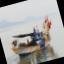fishing boat: (8, 22, 57, 59)
